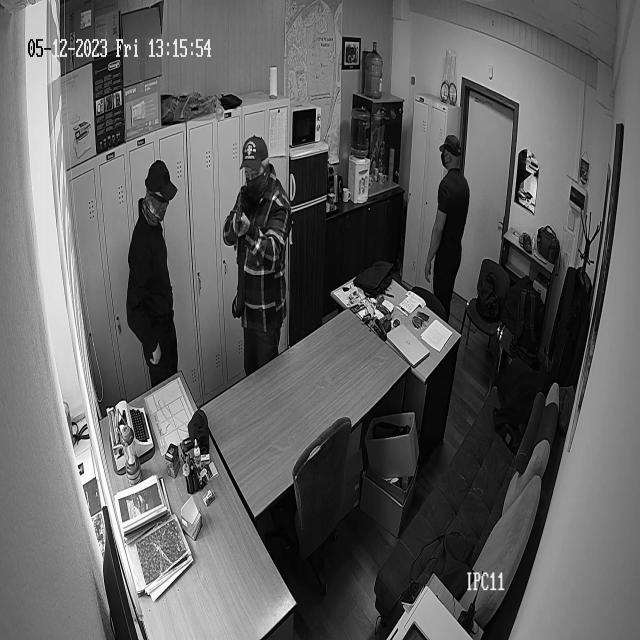gun: (232, 187, 254, 259)
person: (124, 158, 178, 390), (422, 135, 469, 312)
person with a gun: (222, 142, 292, 384)
